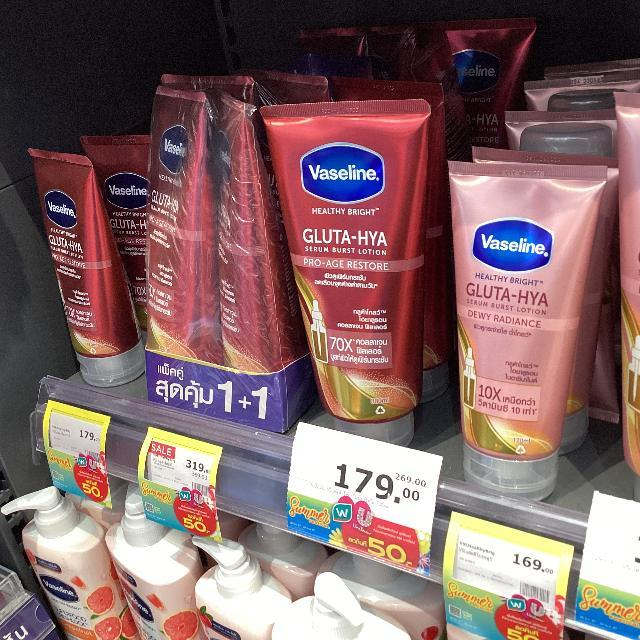Squeeze Tube: (11, 53, 618, 534)
